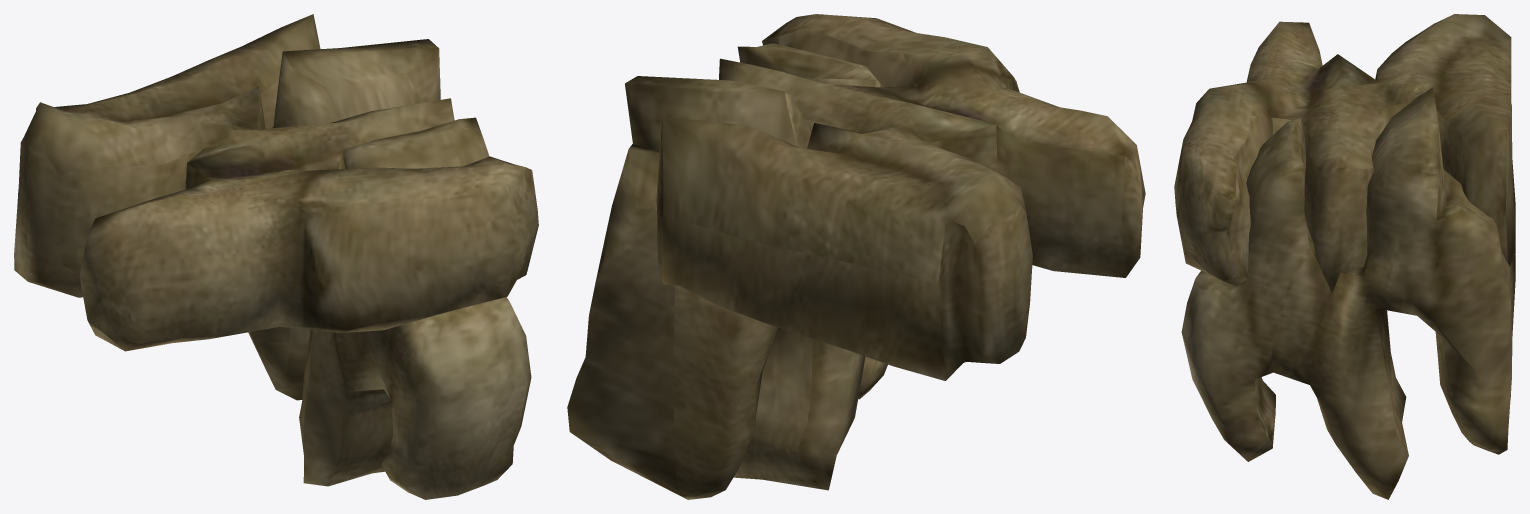
Rendered from military_sandbag_desert_cornersection.glb.
3 views of the same model, side by side, from view 1: azimuth 30°, elevation 25°; view 2: azimuth 150°, elevation 25°; view 3: azimuth 270°, elevation 25° (orthographic). The views are drawn at different scales.
Bounding box in the file's own units: 43.11 × 38.84 × 33.14.
Materials: 1 (1 with a texture image).
